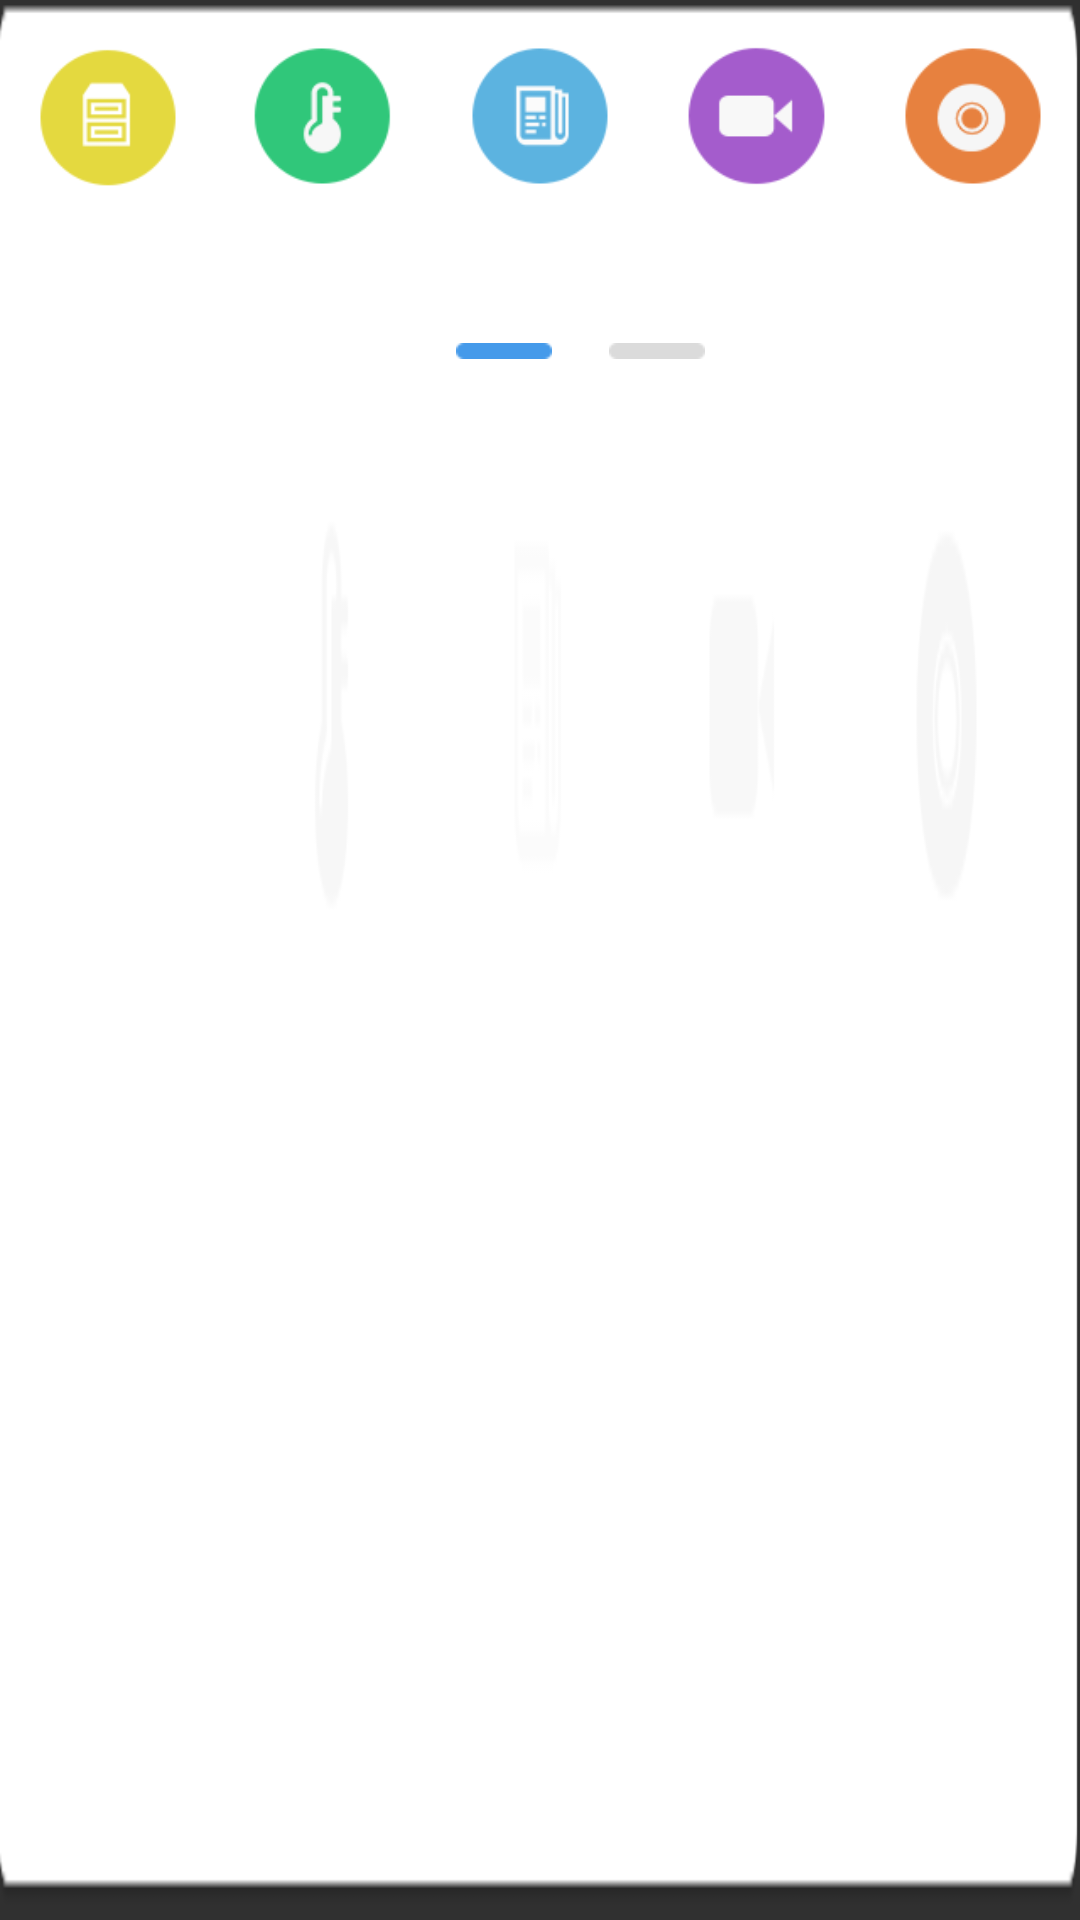

Screen size 1080×1920. Icon name, then its box in pixels as BBox(x1, y1, x2, y2):
serch cd: BBox(905, 48, 1041, 184)
serch mjj: BBox(40, 50, 176, 186)
serch sp: BBox(688, 48, 825, 184)
serch wsd: BBox(254, 48, 390, 184)
